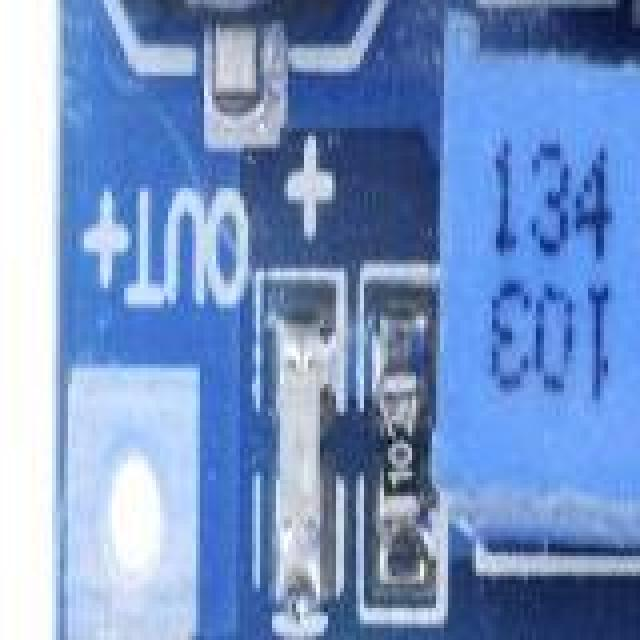LED: (256, 308, 338, 578)
capacitor: (0, 0, 388, 28)
potentiometer: (440, 8, 640, 512)
resistor: (376, 316, 428, 588)
